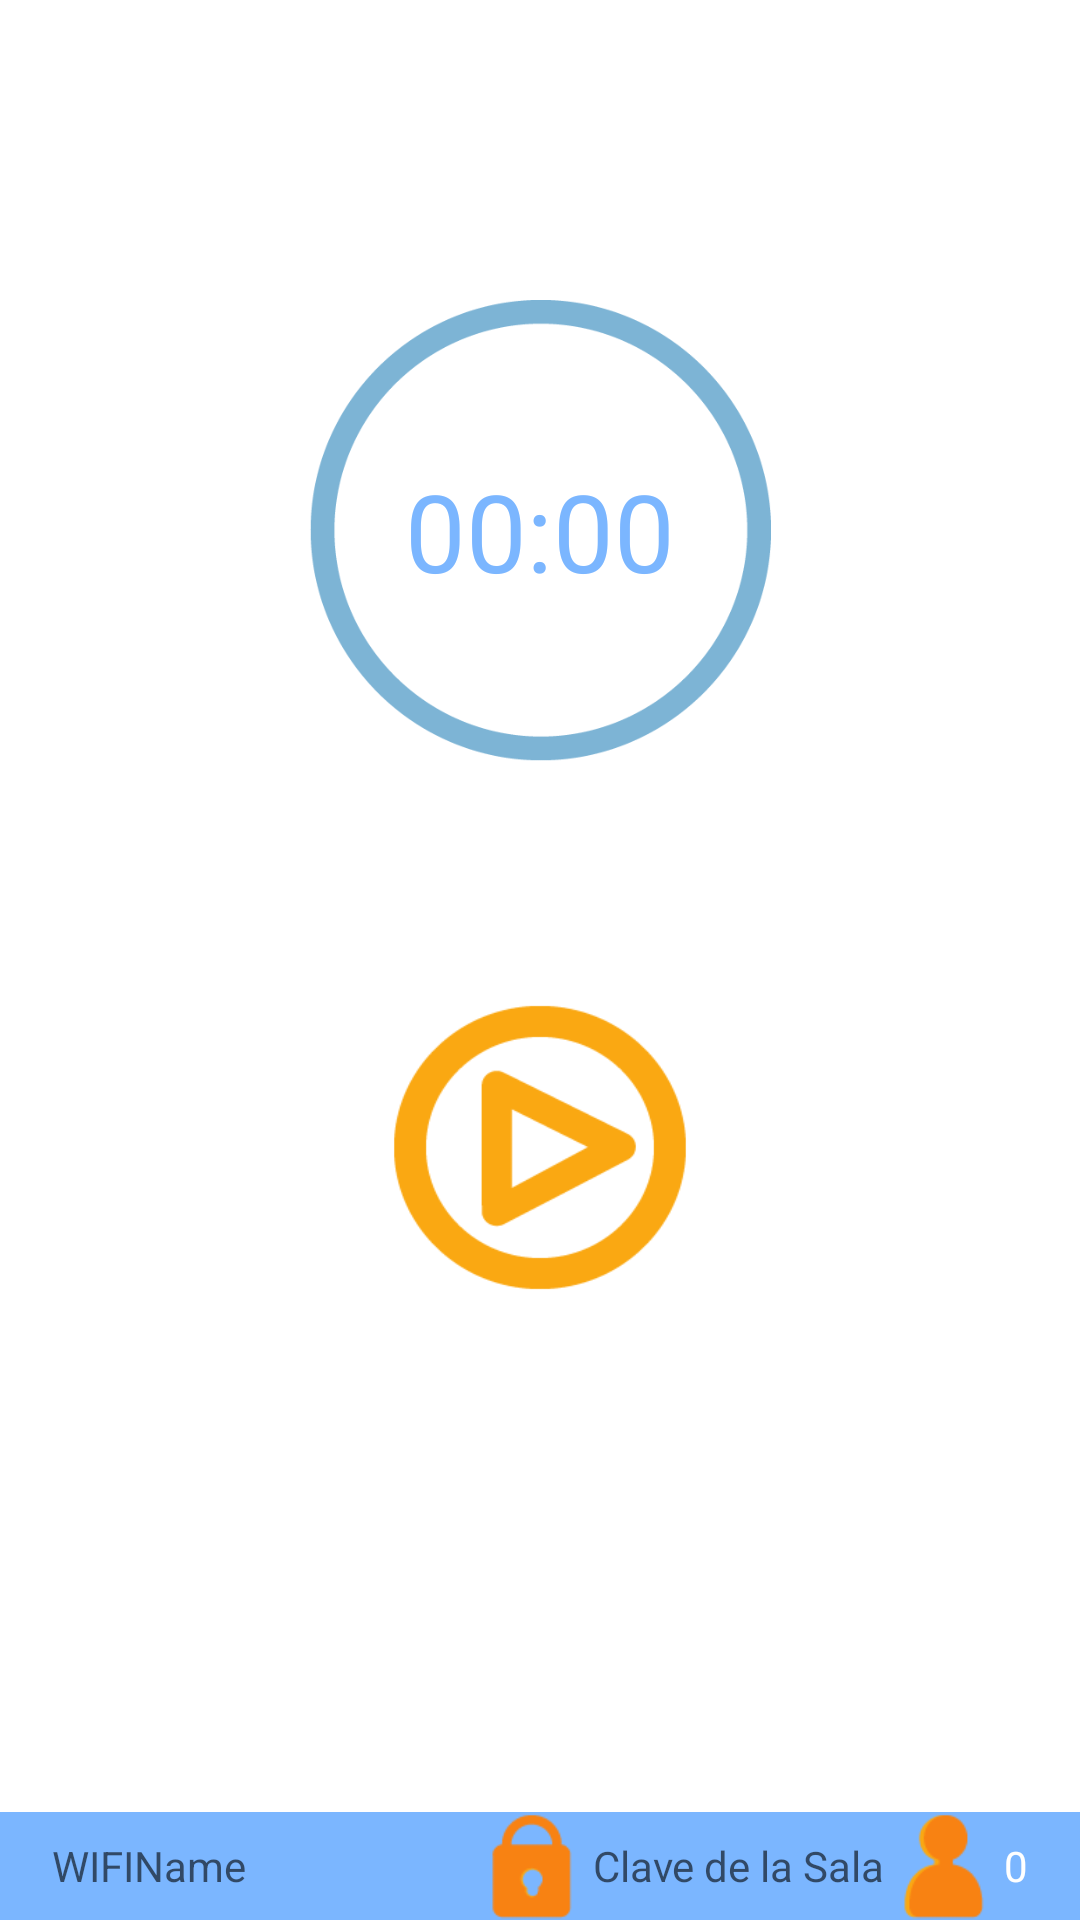

Named icons in this screenshot (1080px×1920px) and their centers, [x,y]:
people: [944,1867]
play: [540,1147]
